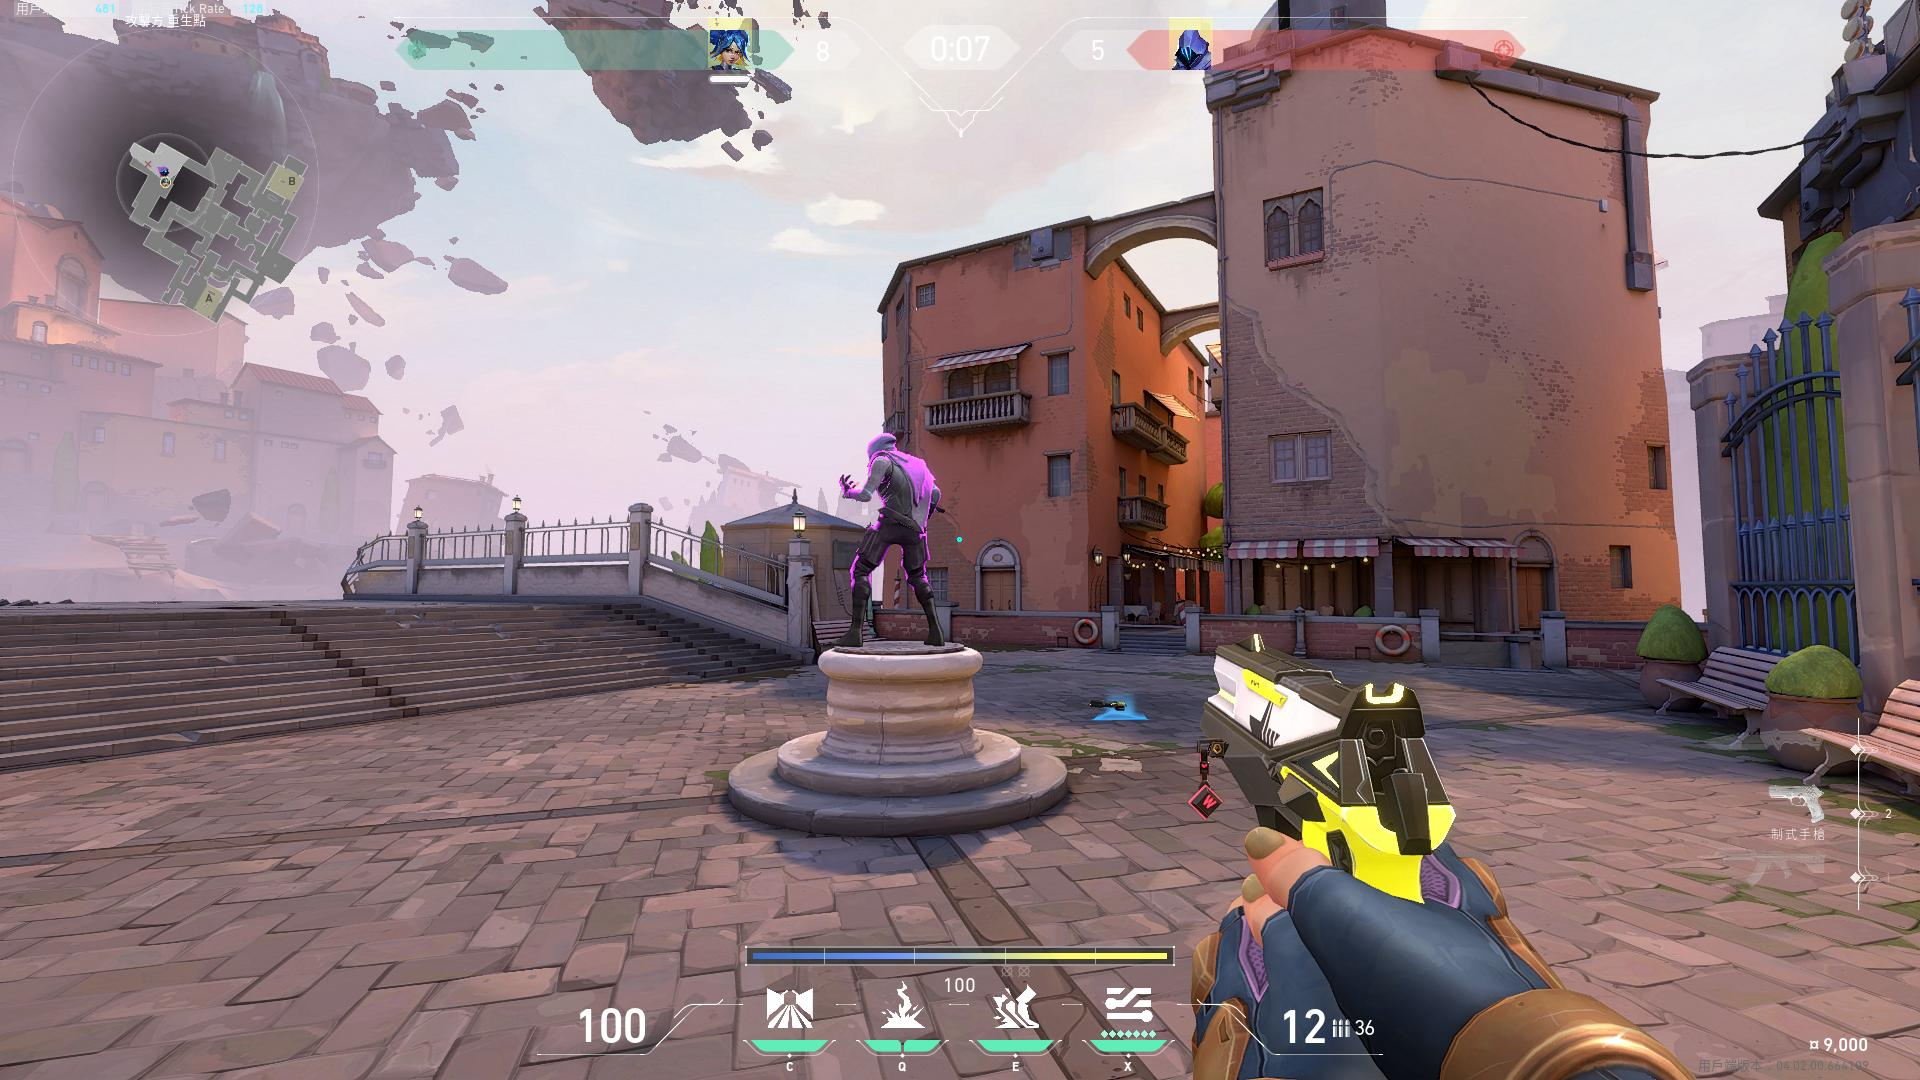enemyBody: (884, 464, 926, 524)
enemyHead: (873, 438, 889, 456)
